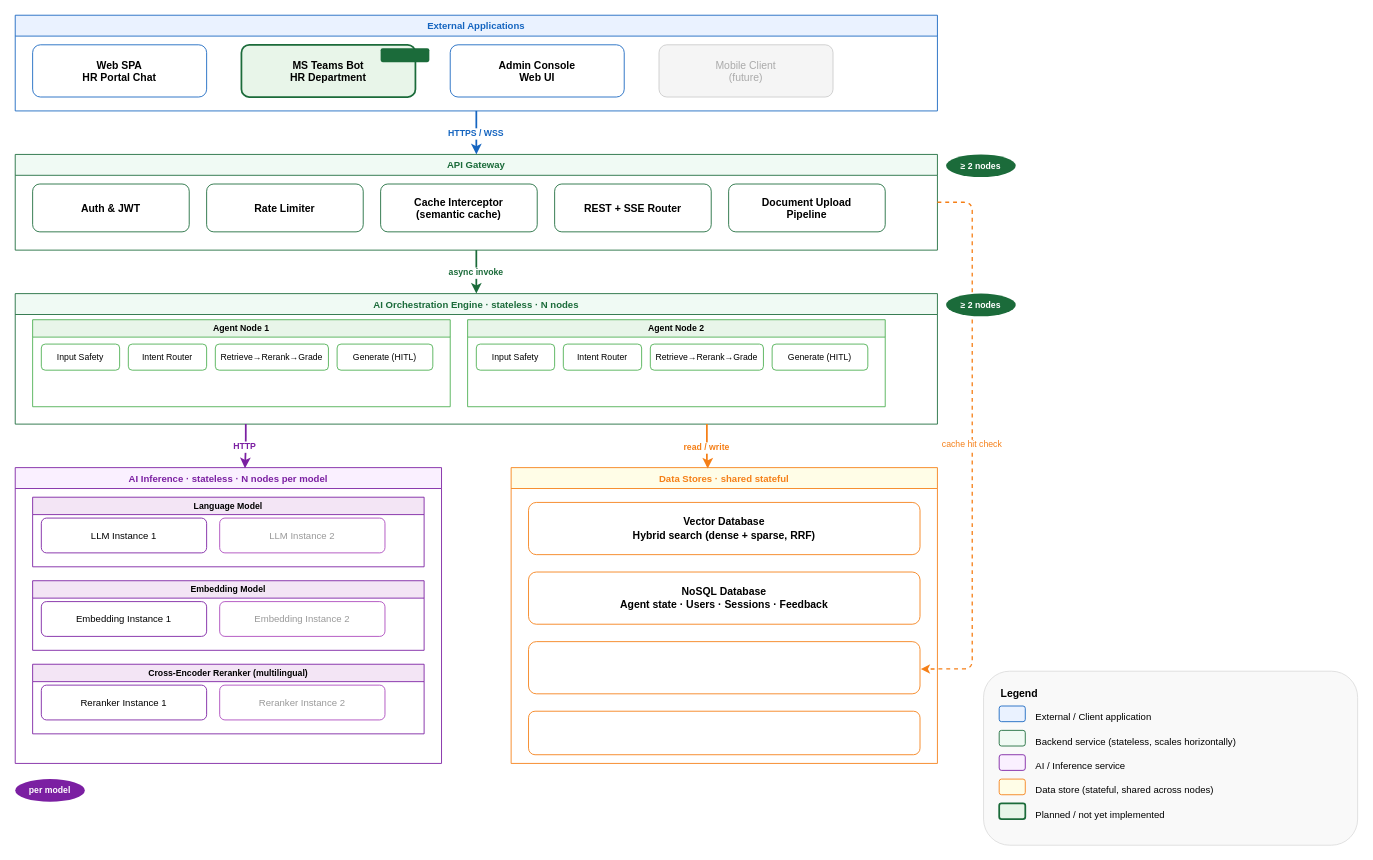
Some shapes in this 1373 by 860 pixel diagram are drawn without their labels. The shapes that lost their labels are listed below. From the top down, each one's centre as x and y in pixels, then its label:
At (x=404, y=55): "PLANNED".
At (x=724, y=667): "In-Memory Cache Semantic cache · Rate limit counters · Pub/Sub".
At (x=724, y=732): "Object Storage Raw document files (PDF / DOCX / TXT)".
